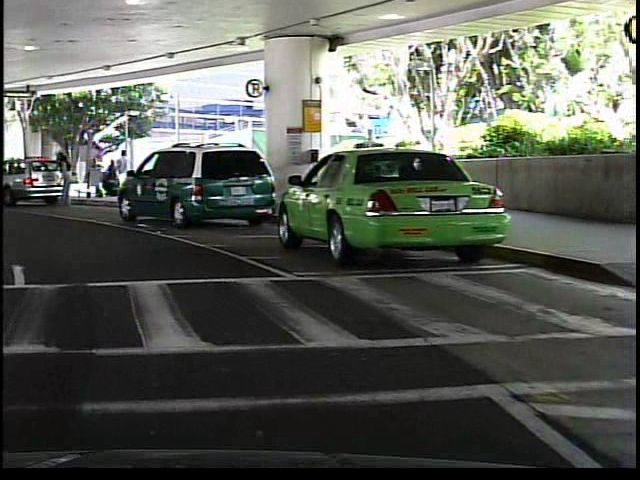person: (54, 151, 73, 207)
